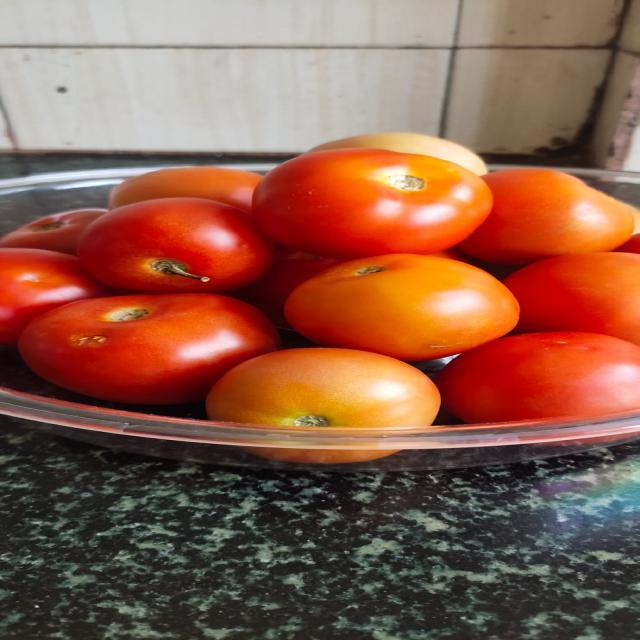Tomato: (16, 294, 279, 405), (251, 148, 493, 259), (284, 254, 519, 361), (76, 198, 273, 294), (205, 348, 440, 428), (436, 332, 640, 424), (455, 168, 636, 264), (503, 252, 640, 345), (0, 248, 118, 345), (106, 166, 261, 212), (0, 209, 107, 255), (246, 447, 398, 464)
